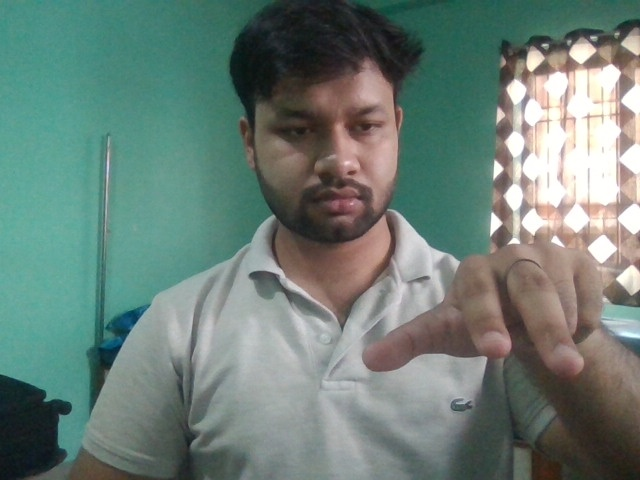No: (361, 242, 607, 383)
